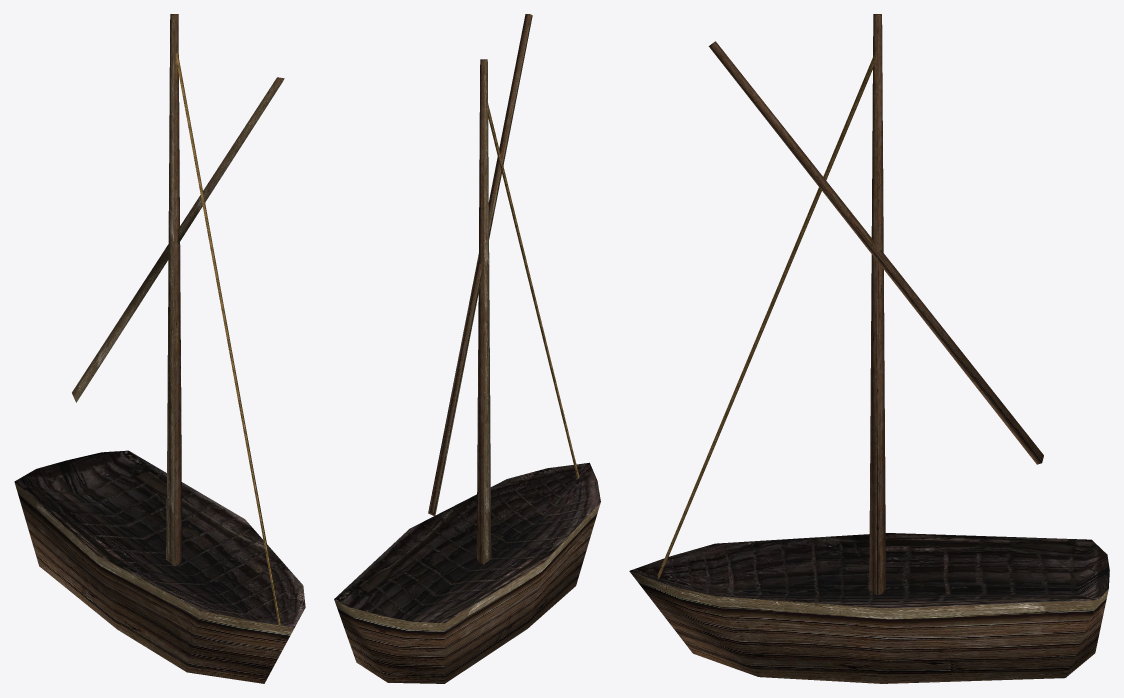
The model's file is NW_HARBOUR_SMALL_BOAT_01.glb.
3 renders of one model, left to right at view 1: azimuth 30°, elevation 25°; view 2: azimuth 150°, elevation 25°; view 3: azimuth 270°, elevation 25°, orthographic. The views are drawn at different scales.
Parts seen in each view (by area): view 1: Mesh; view 2: Mesh; view 3: Mesh.
Part boxes in pixels (x1,y1,x2,y2): Mesh: (14, 14, 305, 683); Mesh: (334, 14, 600, 683); Mesh: (629, 14, 1109, 683).
Size of the model in its own units: 3.02 by 12.4 by 8.09.
3 materials, 3 textured.
